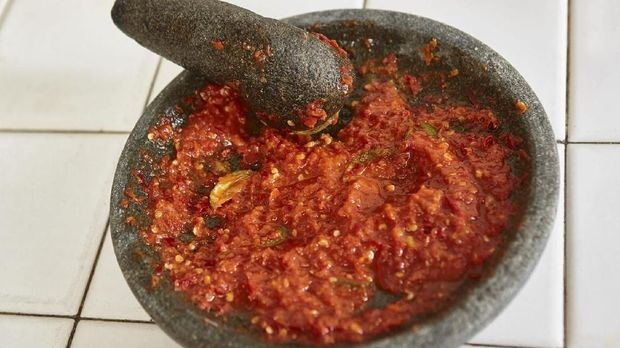sambal: (152, 86, 483, 319)
